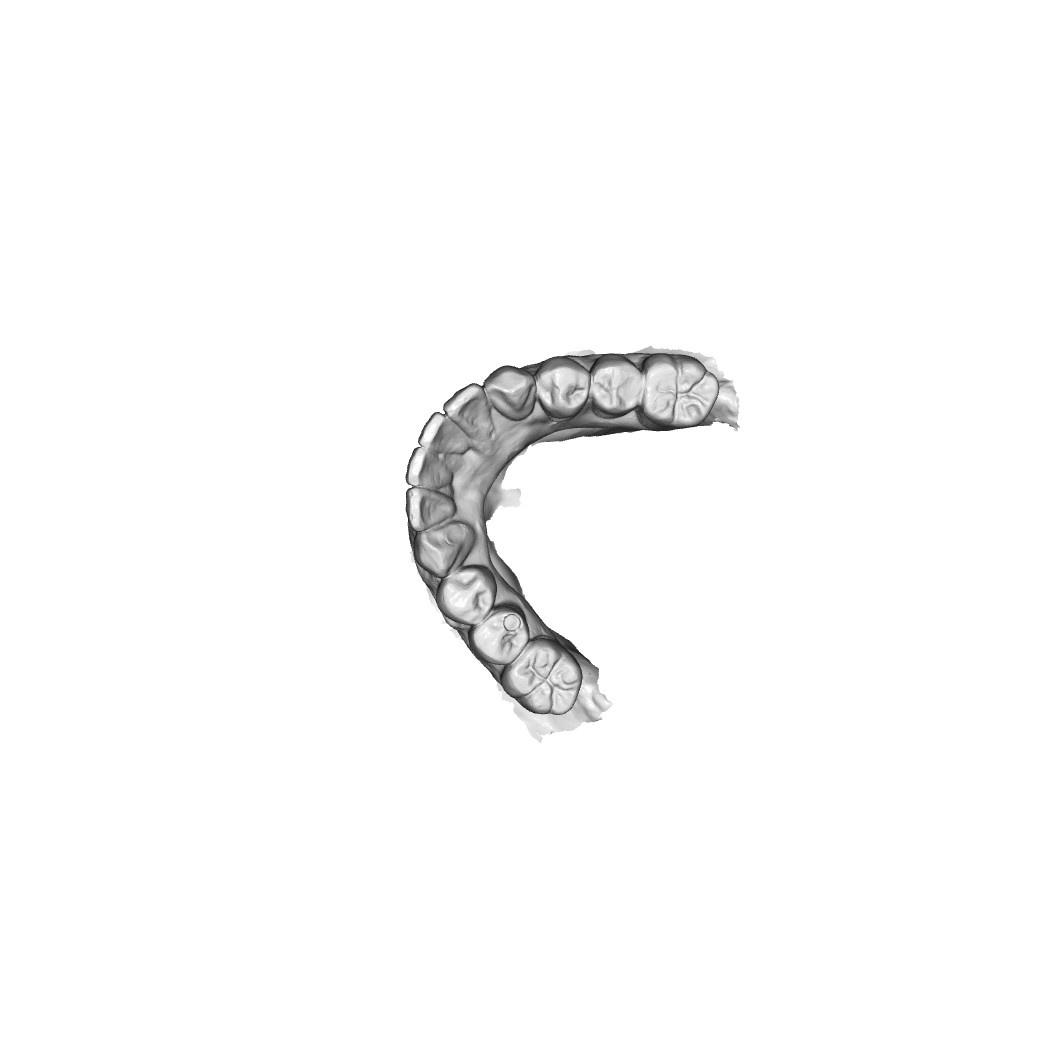canine: (413, 521, 469, 580), (485, 364, 535, 424)
incisor: (441, 383, 495, 439), (406, 445, 458, 497), (416, 412, 473, 456), (405, 488, 461, 527)
molar: (504, 638, 589, 718), (640, 352, 722, 433)
premolar: (434, 564, 496, 626), (470, 606, 532, 664), (535, 356, 589, 418), (591, 357, 645, 418)
